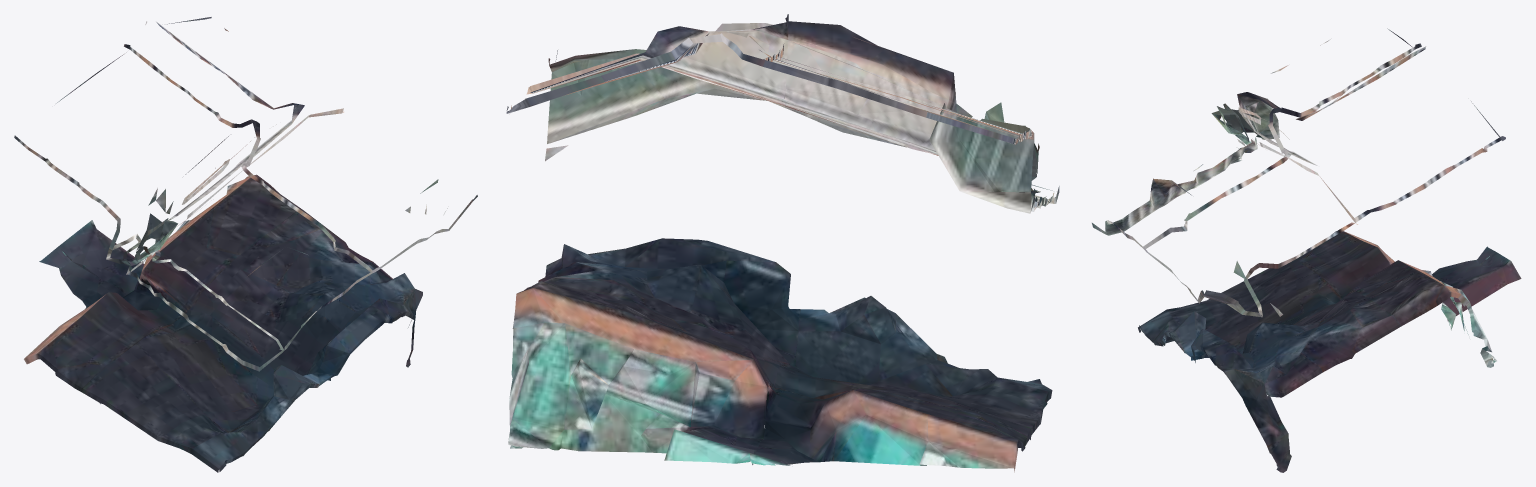
Rendered from AJVsH2z9eYW2xiU1afL5kjg5ZalAExnkxA4CDkrU4KSqVJr5srglKsfEXaXLp1wRh_E76kM60EidKe3ulYyt5wqDSuxM-DsgOfIVeSIFGOYvSuF5brx3qb61tcibNUmYKW9KYcl6TRvPanU6_x0razYJE-cc.glb.
The picture shows the model from 3 angles, left to right: view 1: azimuth 30°, elevation 25°; view 2: azimuth 150°, elevation 25°; view 3: azimuth 270°, elevation 25°; orthographic projection. The views are drawn at different scales.
Size of the model in its own units: 46.62 by 39.88 by 45.71.
Materials: 1 (1 with a texture image).
